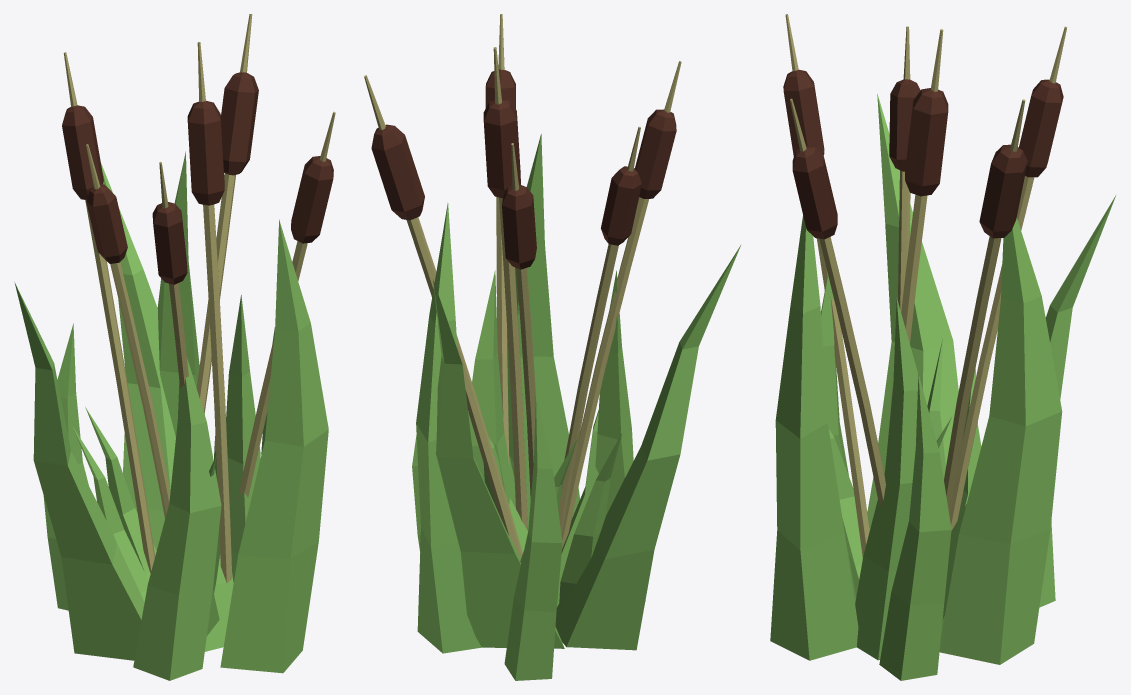
Rendered from Reeds.fbx.
The picture shows the model from 3 angles, left to right: view 1: azimuth 30°, elevation 25°; view 2: azimuth 150°, elevation 25°; view 3: azimuth 270°, elevation 25°; orthographic projection. The views are drawn at different scales.
Visible parts, largest first — view 1: Reeds2; view 2: Reeds2; view 3: Reeds2.
Part boxes in pixels (x1,y1,x2,y2): Reeds2: (14, 14, 335, 680); Reeds2: (364, 14, 741, 680); Reeds2: (770, 14, 1115, 680).
Bounding box in the file's own units: 2.15 × 3.88 × 1.98.
